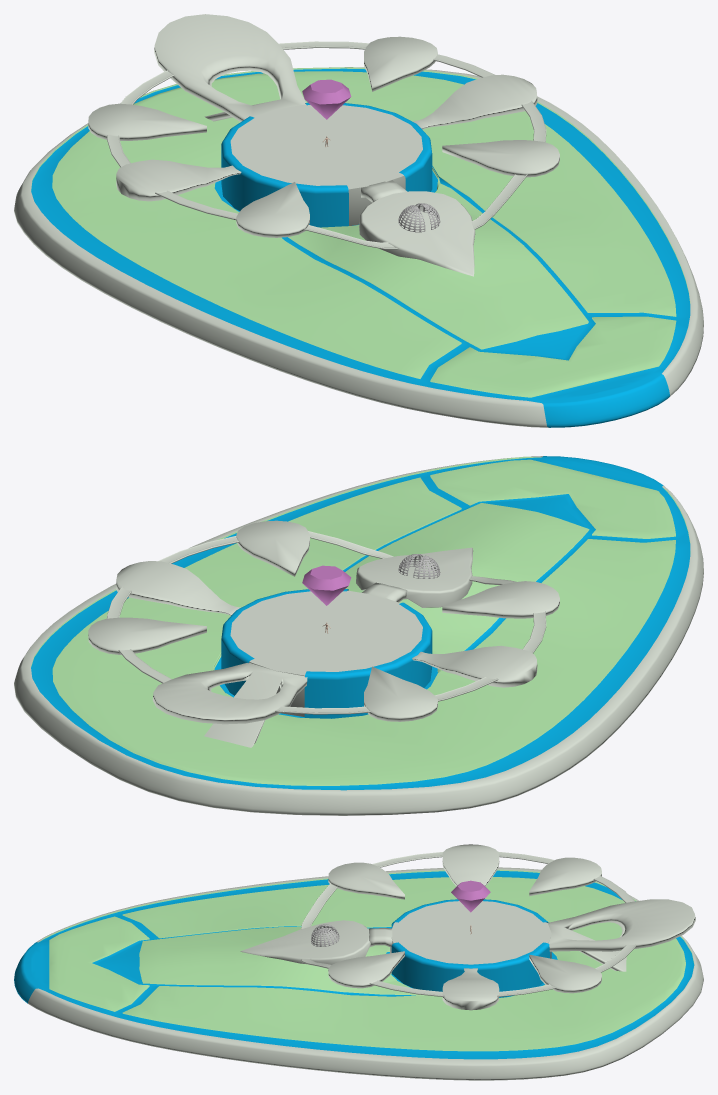
Rendered from DiamondPlaza.fbx.
The picture shows the model from 3 angles, top to bottom: view 1: azimuth 30°, elevation 25°; view 2: azimuth 150°, elevation 25°; view 3: azimuth 270°, elevation 25°; orthographic projection. The views are drawn at different scales.
Parts seen in each view (by area): view 1: polySurface13; view 2: polySurface13; view 3: polySurface13, polySurface11.
Boxes of the visible parts, x1=… form: polySurface13: x1=14, y1=14, x2=703, y2=427; polySurface13: x1=14, y1=456, x2=703, y2=815; polySurface13: x1=14, y1=844, x2=703, y2=1080; polySurface11: x1=311, y1=928, x2=339, y2=946.
Bounding box in the file's own units: 23.59 × 5.31 × 34.16.
